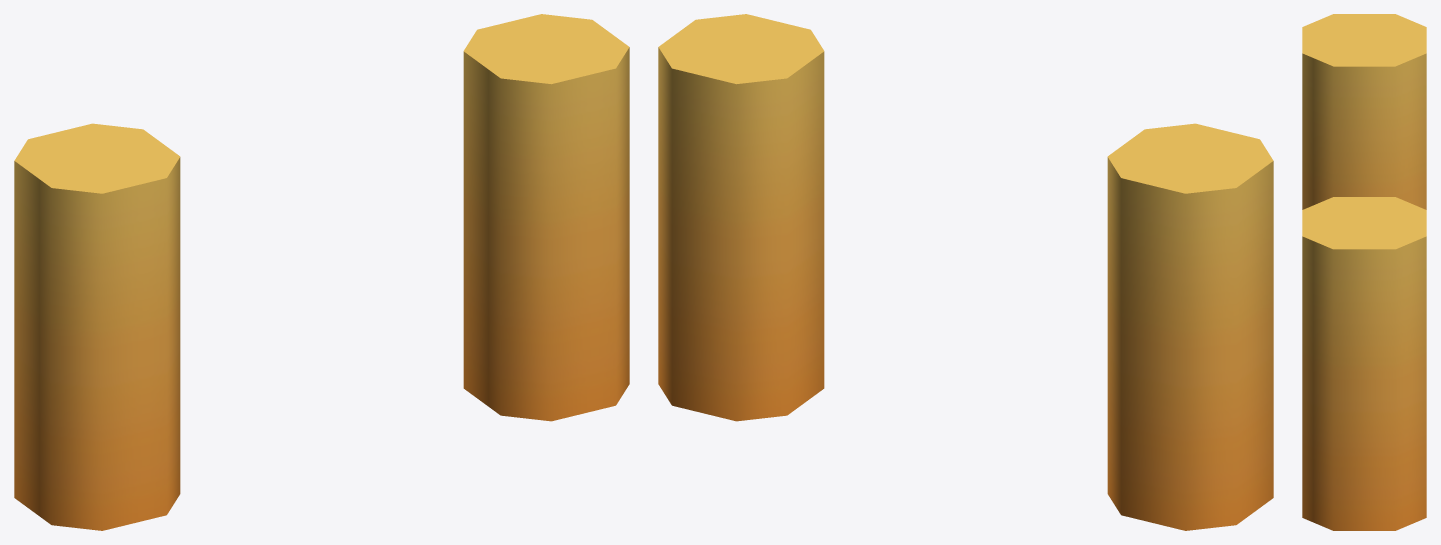
Rendered from kenney-marble-support-color-two-middle.glb.
3 renders of one model, left to right at view 1: azimuth 30°, elevation 25°; view 2: azimuth 150°, elevation 25°; view 3: azimuth 270°, elevation 25°, orthographic. The views are drawn at different scales.
Parts seen in each view (by area): view 1: support-color-two-middle; view 2: support-color-two-middle; view 3: support-color-two-middle.
Part boxes in pixels (box(x1,y1,x2,y2)): support-color-two-middle: box(14, 14, 629, 530); support-color-two-middle: box(658, 14, 1273, 530); support-color-two-middle: box(1302, 14, 1426, 530).
Size of the model in its own units: 0.8969 by 0.5 by 0.2.
1 material, 1 textured.
